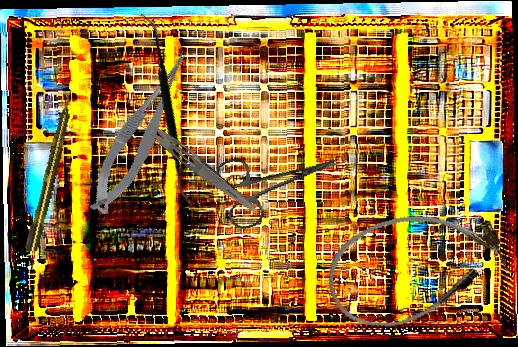Cannula: (315, 193, 517, 341)
Dressing Forceps: (123, 104, 262, 216)
Handpiece: (23, 90, 78, 255)
Iris Scissors: (212, 129, 352, 233)
Micro Scissor: (73, 45, 211, 221)
Spatula Surgical: (70, 11, 263, 209)
